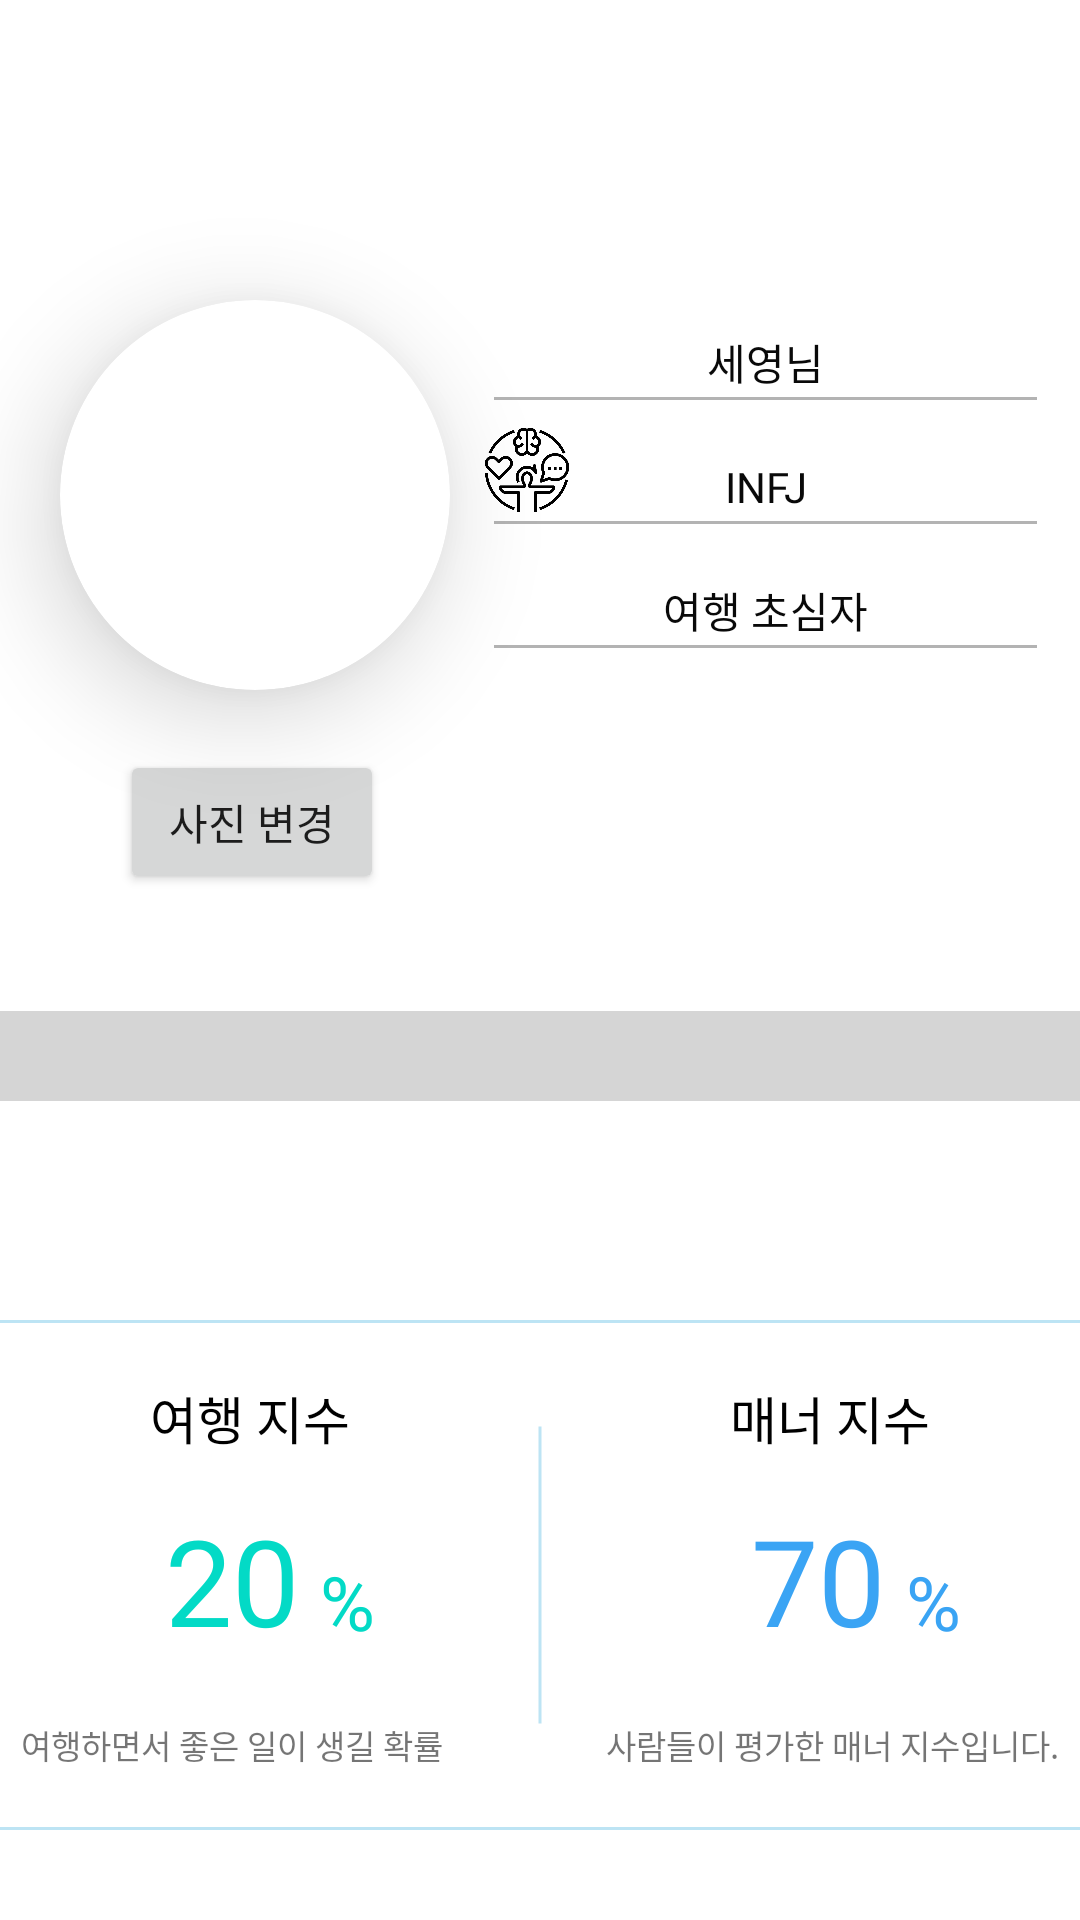

Icons on this 1080px x 1920px Android screen, each with the point to tap as point (x, y):
mbti: point (527, 470)
